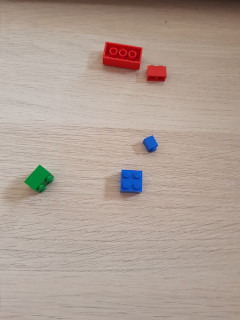1x1 blue: (142, 135, 160, 155)
1x2 red: (147, 65, 167, 82)
2x2 blue: (121, 170, 142, 194)
2x2 green: (24, 165, 55, 194)
2x4 red: (103, 41, 143, 75)
